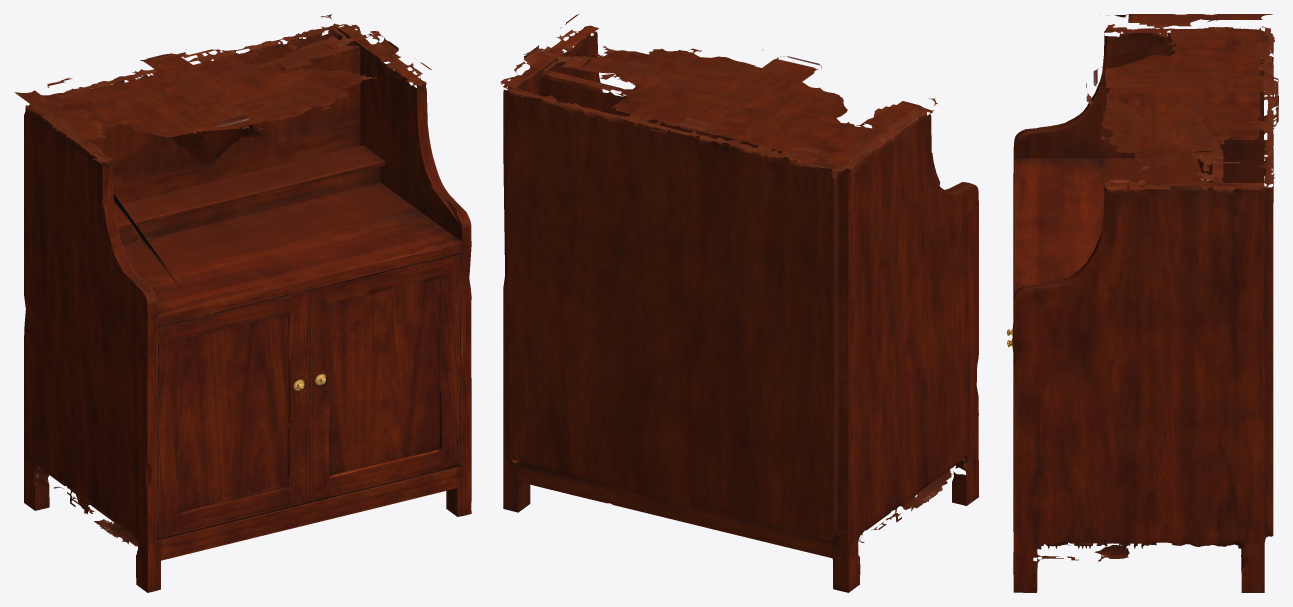
File: w51altarcab.glb
The picture shows the model from 3 angles, left to right: view 1: azimuth 30°, elevation 25°; view 2: azimuth 150°, elevation 25°; view 3: azimuth 270°, elevation 25°; orthographic projection. The views are drawn at different scales.
Visible parts, largest first — view 1: output_unwrapped; view 2: output_unwrapped; view 3: output_unwrapped.
Boxes of the visible parts, x1,y1,x2,y2 form: output_unwrapped: (15, 14, 471, 592); output_unwrapped: (500, 14, 978, 592); output_unwrapped: (1007, 14, 1278, 592).
Bounding box in the file's own units: 0.9001 × 1.03 × 0.6103.
Materials: 1 (1 with a texture image).
